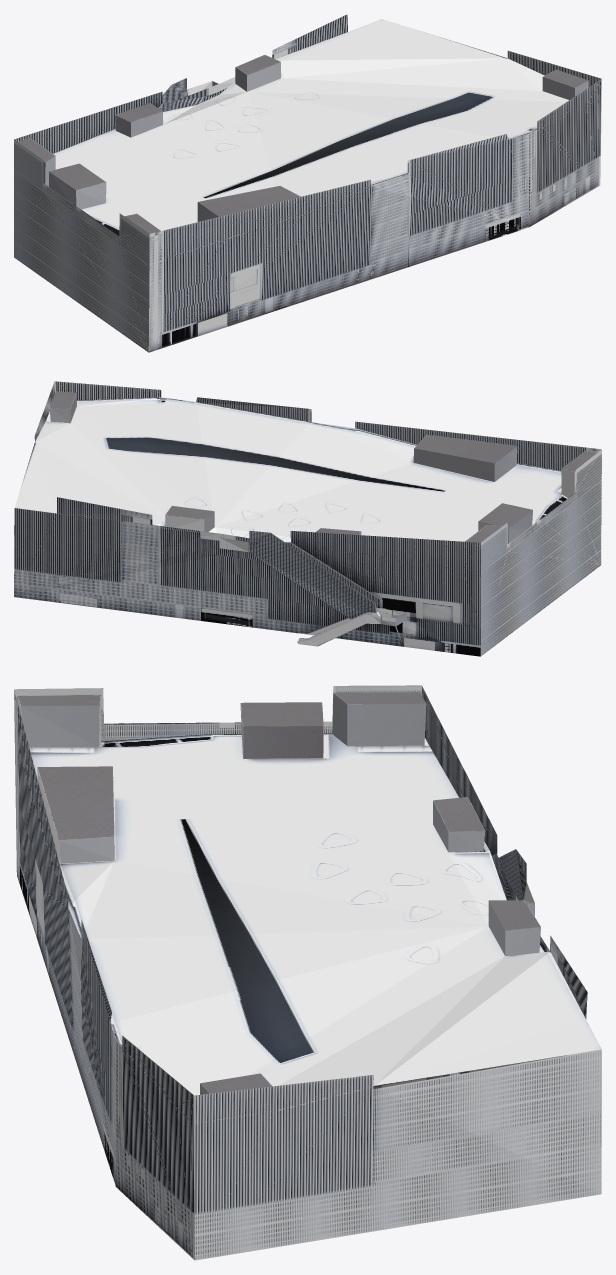
3 renders of one model, top to bottom at view 1: azimuth 30°, elevation 25°; view 2: azimuth 150°, elevation 25°; view 3: azimuth 270°, elevation 25°, orthographic. The views are drawn at different scales.
Parts seen in each view (by area): view 1: 311.copy; view 2: 311.copy; view 3: 311.copy.
Part boxes in pixels (box(x1,y1,x2,y2)): 311.copy: box(14, 14, 601, 352); 311.copy: box(14, 381, 601, 656); 311.copy: box(14, 685, 601, 1260).
Bounding box in the file's own units: 120 × 26.66 × 76.21.
1 material, 1 textured.
